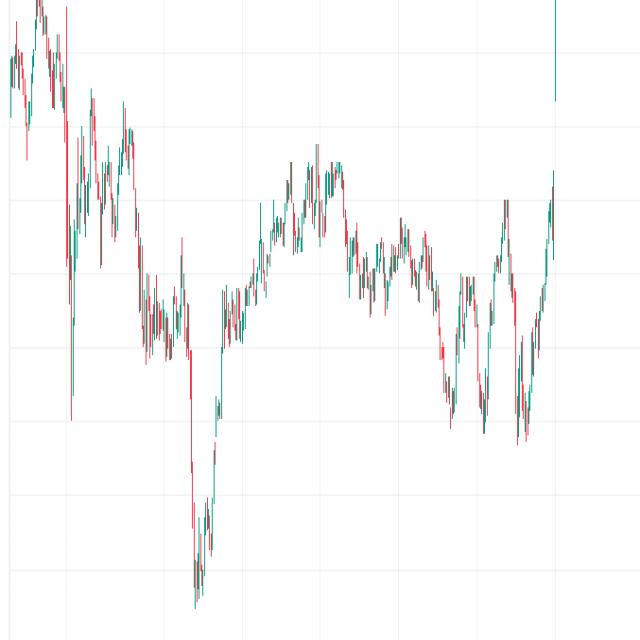Triple-Bottom: (426, 264, 556, 458)
